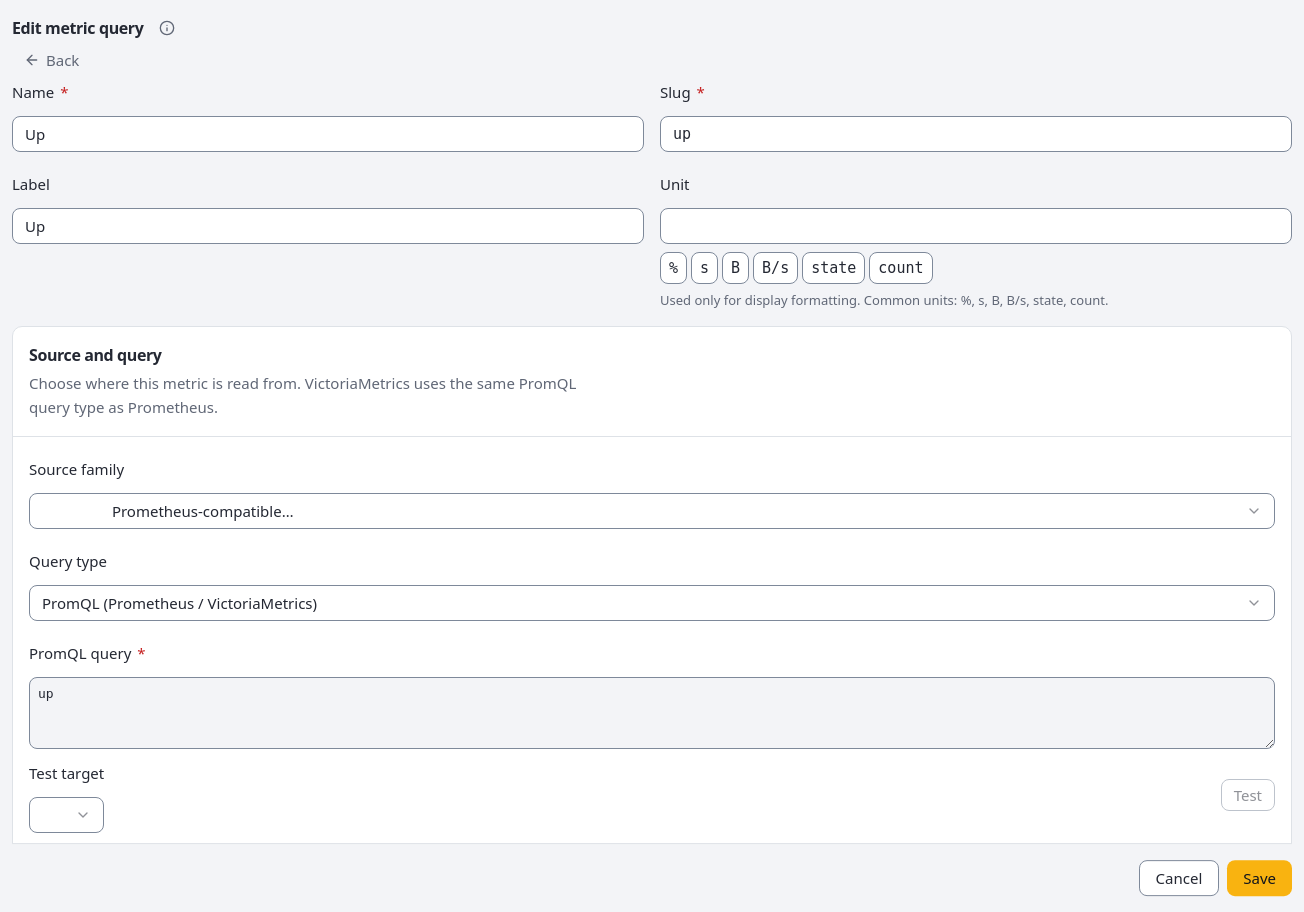
Scenario: observability routed entity pages › freezes the whole draft during save and unlocks it after failure at /observability/metrics/mq-1/edit
Replace the text in the field labelled "Name *" with "Unsaved draft" at (328, 134), box [12,116,644,152]
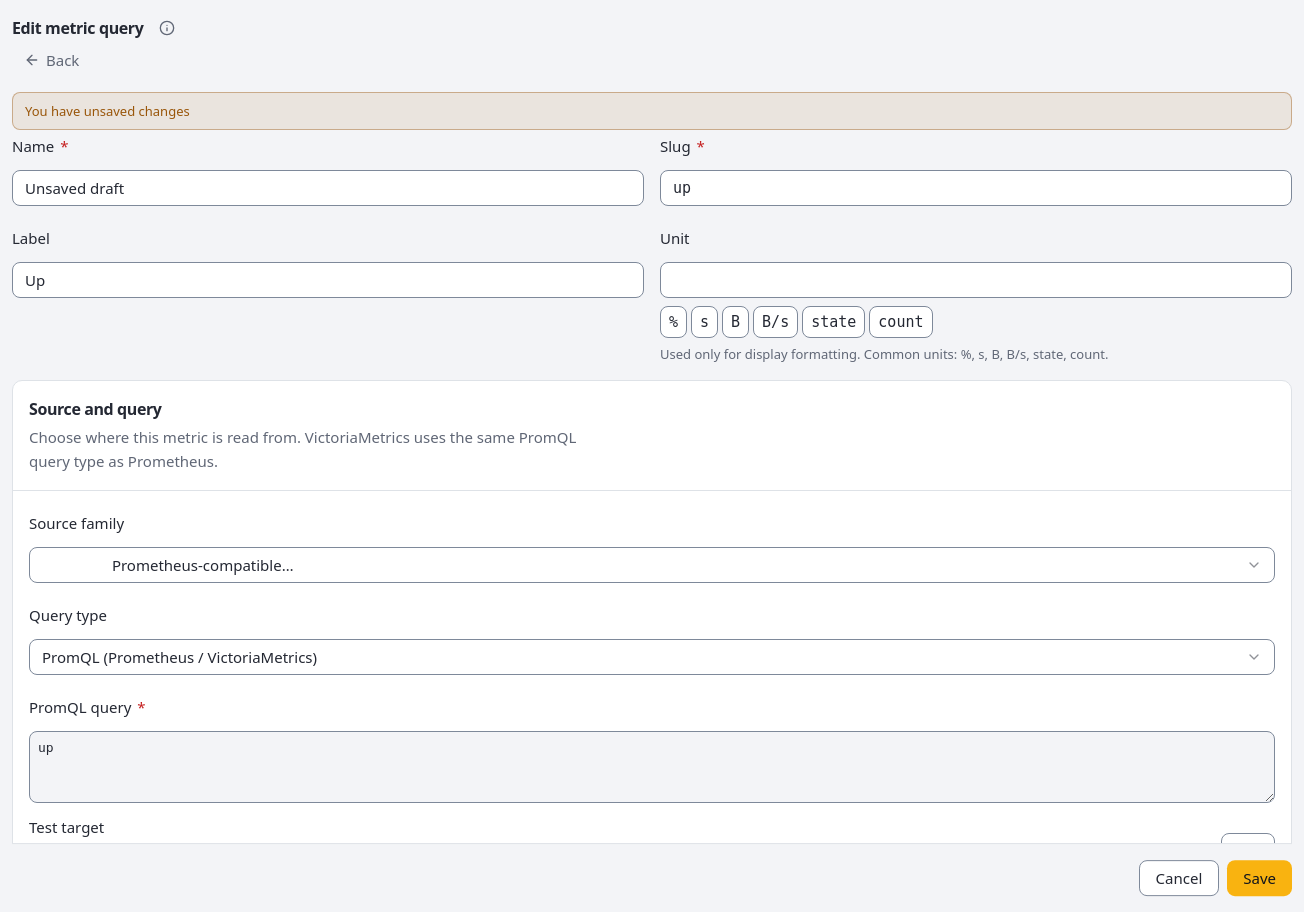
Click the button "Save" at (1260, 878), box [1227,860,1292,896]
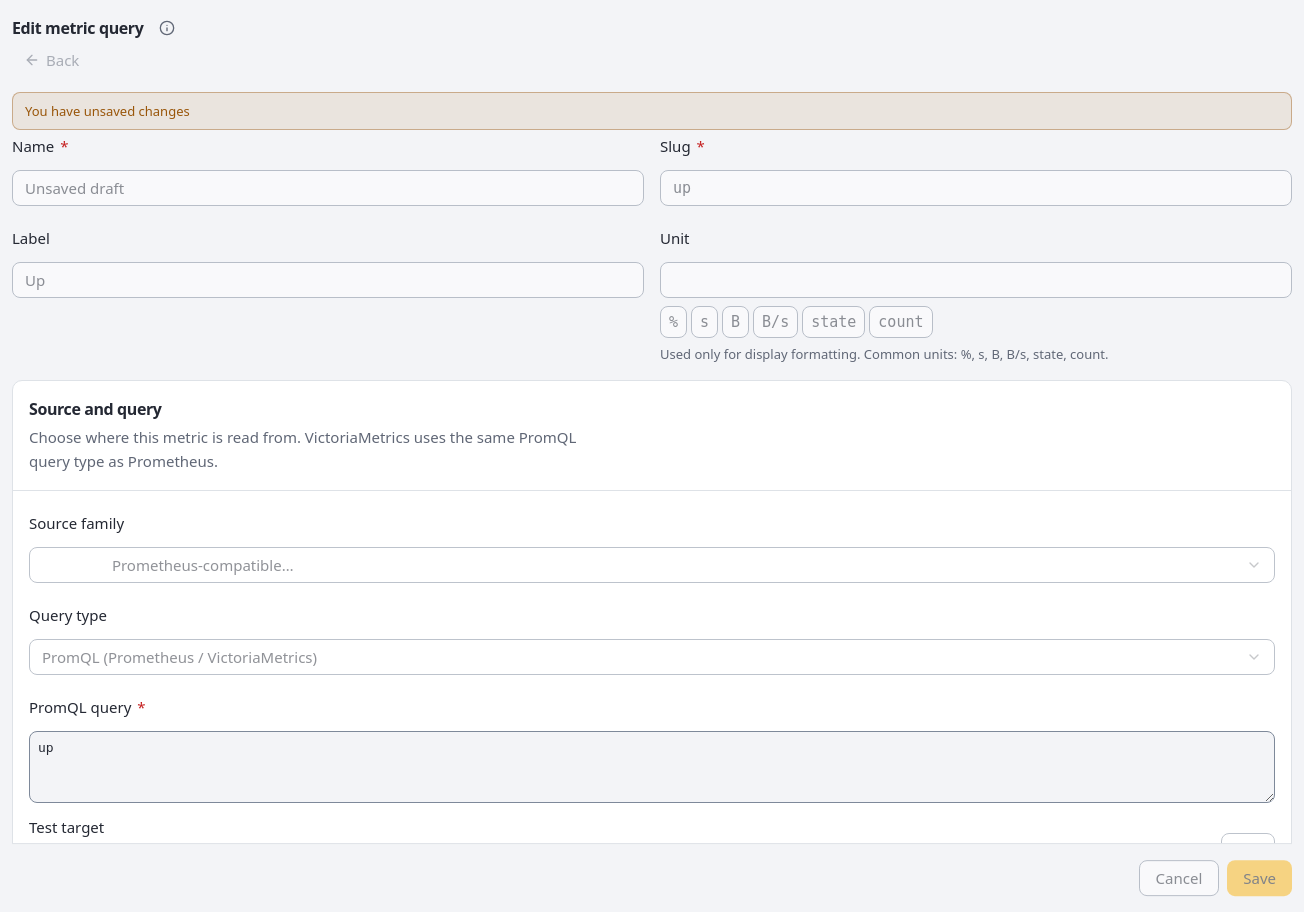
expect the dropdown that starts with "Prometheus-compatible" is disabled: met, box [29,547,1275,583]
expect the dropdown labelled "PromQL (Prometheus / VictoriaMetrics)" is disabled: met, box [29,639,1275,675]
expect the button "Cancel" is disabled: met, box [1139,860,1219,896]
Replace the text in the field labelled "Name *" with "Must not overwrite pending draft" at (328, 188), box [12,170,644,206]
(page scrolled)
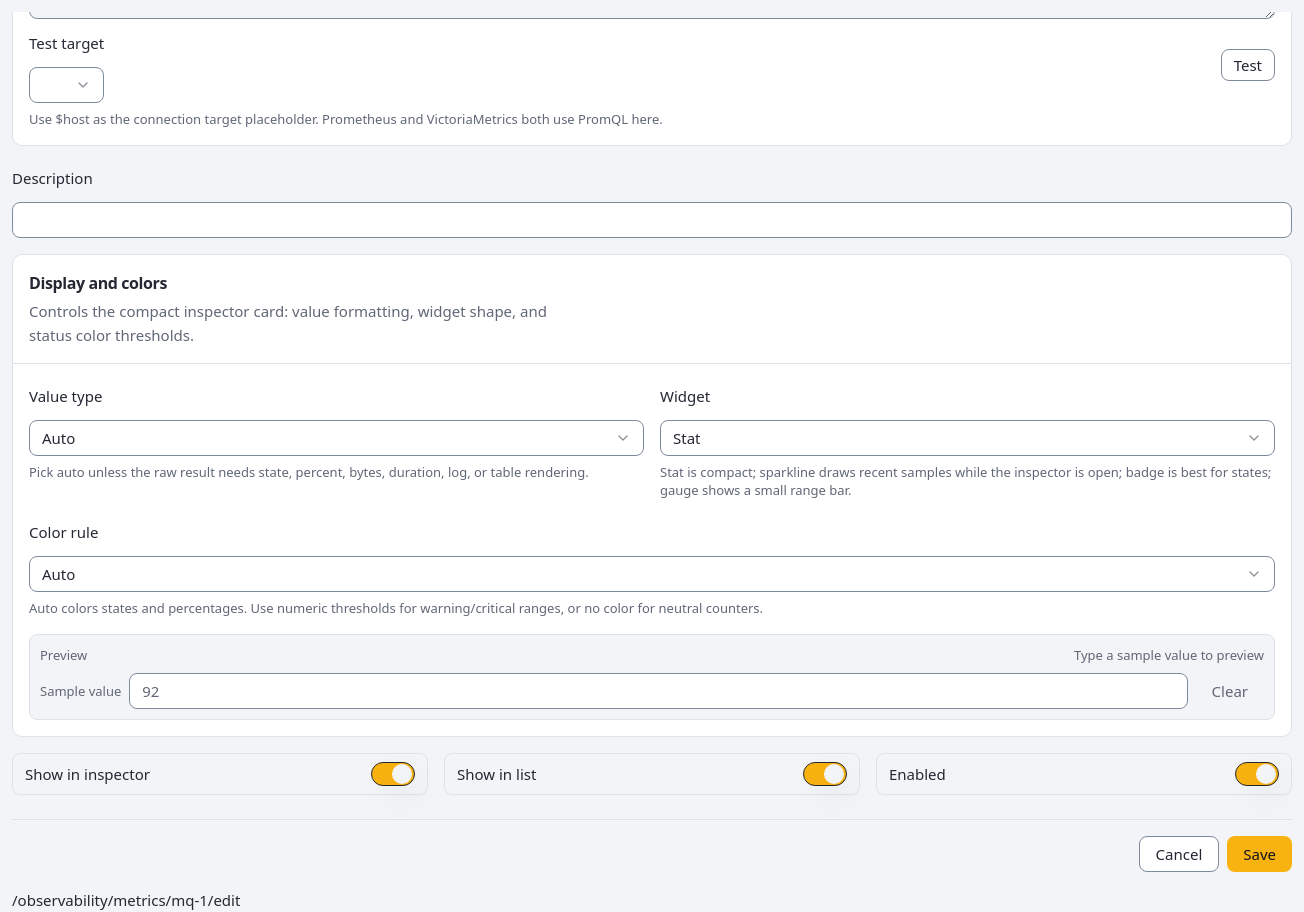
expect the text with test id "location" reads "/observability/metrics/mq-1/edit": met, box [12,890,240,910]
